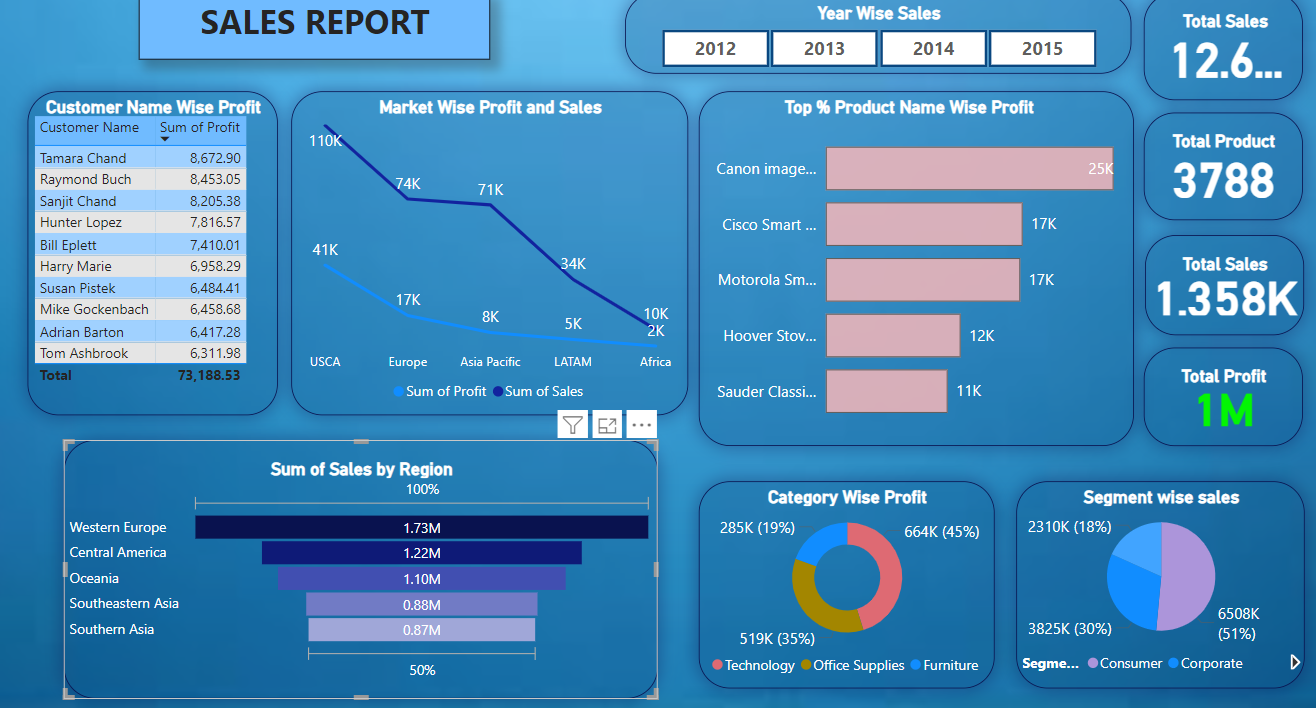

This screenshot's page, from the dashboard's own definition file:
{"tool":"powerbi","page":{"name":"Page 1","canvas":[1280,720],"ordinal":0},"visuals":[{"type":"slicer","title":"Year Wise Sales","fields":{"Values":["Orders.Year"]},"box":[608,16.9,488.6,78.4],"z":0},{"type":"card","title":"Total Sales","fields":{"Values":["Orders.Sales"]},"box":[1108.7,16.9,153.2,103.8],"z":1000},{"type":"card","title":"Total Product","fields":{"Values":["Orders.Product Name"]},"box":[1108.7,132.7,153.2,103.8],"z":2000},{"type":"card","title":"Total Profit","fields":{"Values":["Orders.Profit"]},"box":[1108.7,359.5,153.2,95.3],"z":3000},{"type":"card","title":"Total Sales","fields":{"Values":["Orders.Shipping Cost"]},"box":[1109.9,250.9,153.2,96.5],"z":4000},{"type":"pieChart","title":"Segment wise sales","fields":{"Y":["Orders.Sales"],"Category":["Orders.Segment"]},"box":[985.3,488.5,278.6,200.3],"z":5000},{"type":"donutChart","title":"Category Wise Profit","fields":{"Y":["Orders.Profit"],"Category":["Orders.Category"]},"box":[679.2,488.5,285.4,200.3],"z":6000},{"type":"tableEx","title":"Customer Name Wise Profit","fields":{"Values":["Orders.Customer Name","Orders.Profit"]},"box":[31.6,112.5,241.5,312.9],"z":7000},{"type":"barChart","title":"Top % Product Name Wise Profit","fields":{"Category":["Orders.Product Name"],"Y":["Orders.Profit"]},"box":[679.2,112.2,419.8,342.6],"z":8000},{"type":"lineChart","title":"Market Wise Profit and Sales","fields":{"Category":["Orders.Market"],"Y":["Orders.Profit","Orders.Sales"]},"box":[285.4,112.5,382.8,312.9],"z":9000},{"type":"funnel","fields":{"Category":["Orders.Region"],"Y":["Orders.Sales"]},"box":[65.9,448.7,573.6,249.7],"z":10000},{"type":"textbox","box":[138.6,16.5,338.9,64.5],"z":11000}]}

Visuals, with their boxes on the page's 1280x720 design canvas (x1, y1, x2, y2). These are canvas units, not pixel positions in the 1316x708 screenshot, which may show the page scaled, cropped or inside an application window:
"Year Wise Sales" slicer: box(608, 17, 1097, 95)
"Total Sales" card: box(1109, 17, 1262, 121)
"Total Product" card: box(1109, 133, 1262, 236)
"Total Profit" card: box(1109, 360, 1262, 455)
"Total Sales" card: box(1110, 251, 1263, 347)
"Segment wise sales" pieChart: box(985, 488, 1264, 689)
"Category Wise Profit" donutChart: box(679, 488, 965, 689)
"Customer Name Wise Profit" tableEx: box(32, 112, 273, 425)
"Top % Product Name Wise Profit" barChart: box(679, 112, 1099, 455)
"Market Wise Profit and Sales" lineChart: box(285, 112, 668, 425)
funnel - Orders.Region x Orders.Sales: box(66, 449, 640, 698)
textbox: box(139, 16, 478, 81)
